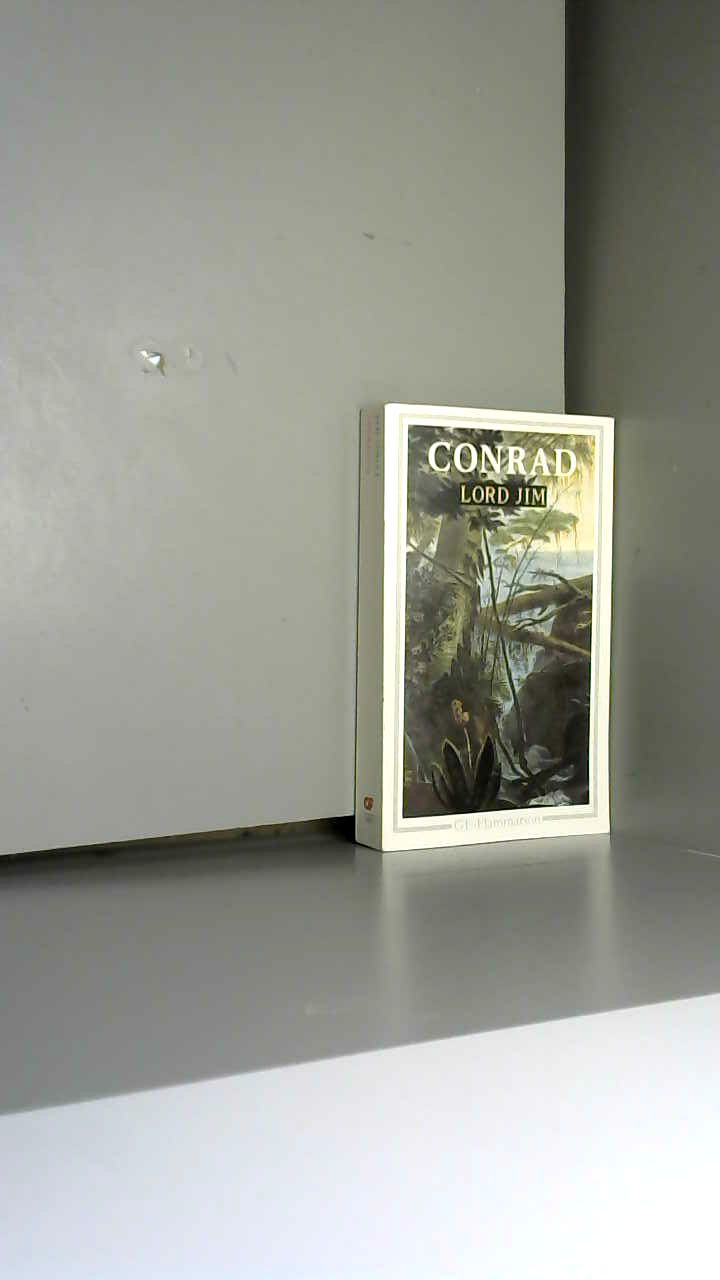book: (350, 380, 716, 924)
